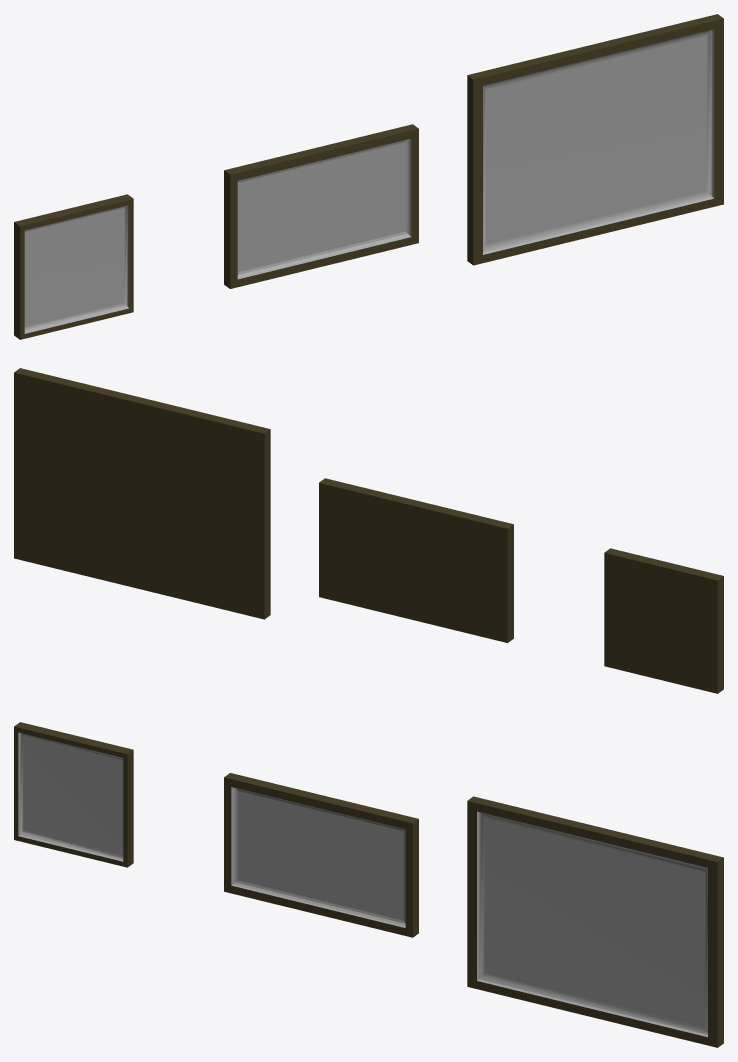
File: Picture Frames.fbx
The picture shows the model from 3 angles, top to bottom: view 1: azimuth 30°, elevation 25°; view 2: azimuth 150°, elevation 25°; view 3: azimuth 330°, elevation 25°; orthographic projection.
Visible parts, largest first — view 1: PFrame3, PFrame1, PFrame2; view 2: PFrame3, PFrame1, PFrame2; view 3: PFrame3, PFrame1, PFrame2.
Boxes of the visible parts, <box> form: PFrame3: <box>467,14,723,265</box>; PFrame1: <box>224,124,418,288</box>; PFrame2: <box>14,194,133,339</box>; PFrame3: <box>14,368,270,619</box>; PFrame1: <box>319,478,513,642</box>; PFrame2: <box>604,548,723,693</box>; PFrame3: <box>467,796,723,1047</box>; PFrame1: <box>224,773,418,937</box>; PFrame2: <box>14,722,133,867</box>.
Size of the model in its own units: 3.73 by 0.9406 by 0.0569.
